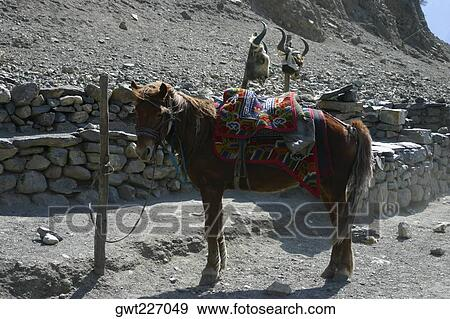equine: (126, 69, 386, 294)
